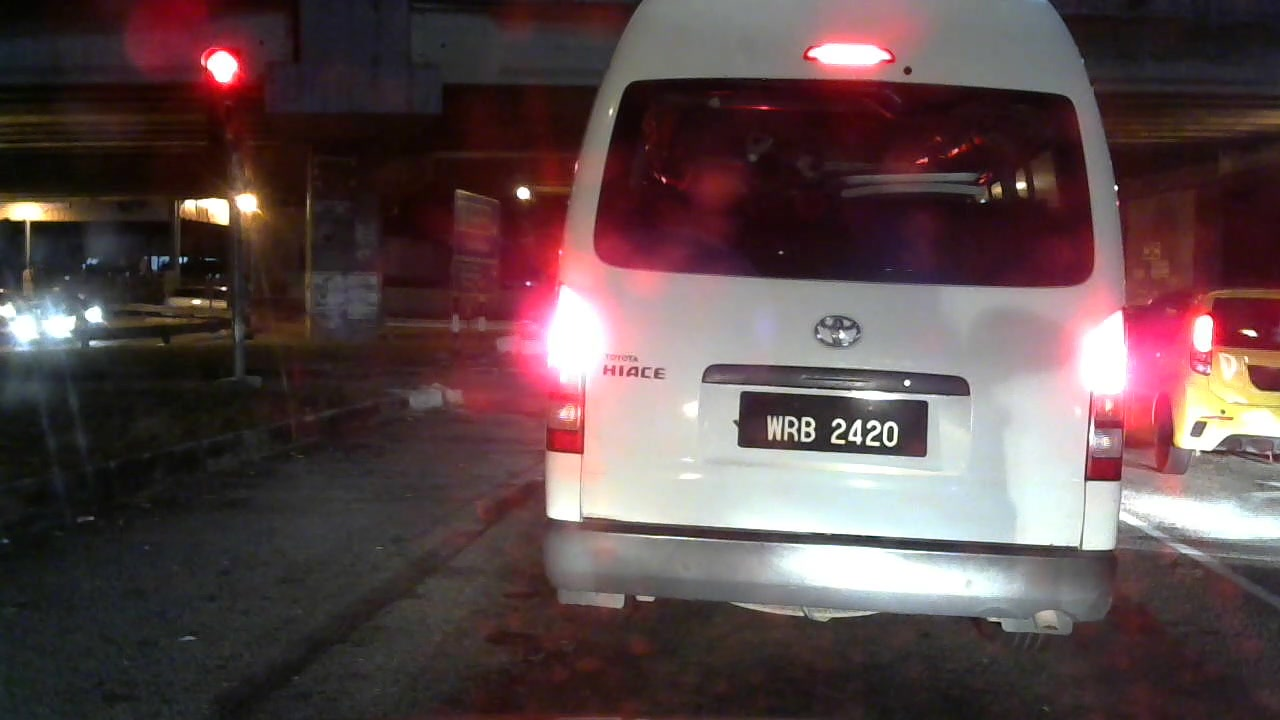Car: (1131, 266, 1280, 490), (1, 282, 91, 344)
